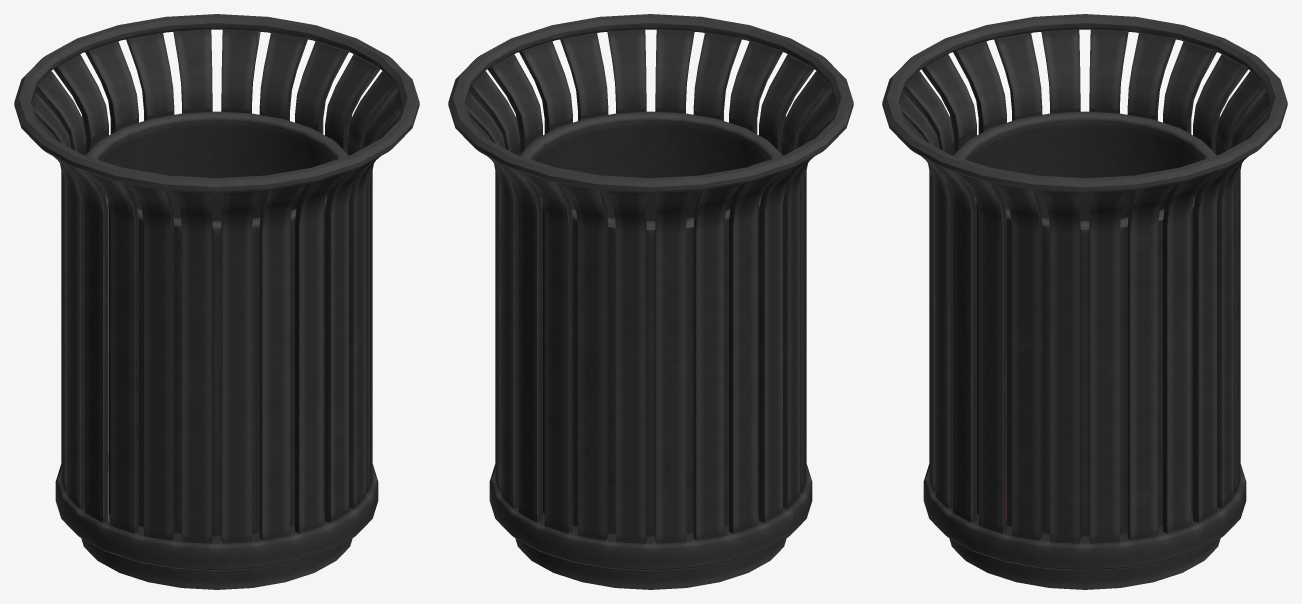
The model's file is SM_Bin.fbx.
3 views of the same model, side by side, from view 1: azimuth 30°, elevation 25°; view 2: azimuth 150°, elevation 25°; view 3: azimuth 270°, elevation 25° (orthographic).
Visible parts, largest first — view 1: SM_Bin_LOD0; view 2: SM_Bin_LOD0; view 3: SM_Bin_LOD0.
Part boxes in pixels (x1,y1,x2,y2): SM_Bin_LOD0: (14, 14, 419, 589); SM_Bin_LOD0: (448, 14, 853, 589); SM_Bin_LOD0: (882, 14, 1287, 589).
Size of the model in its own units: 88.77 by 88.77 by 105.
Materials: 1 (1 with a texture image).
